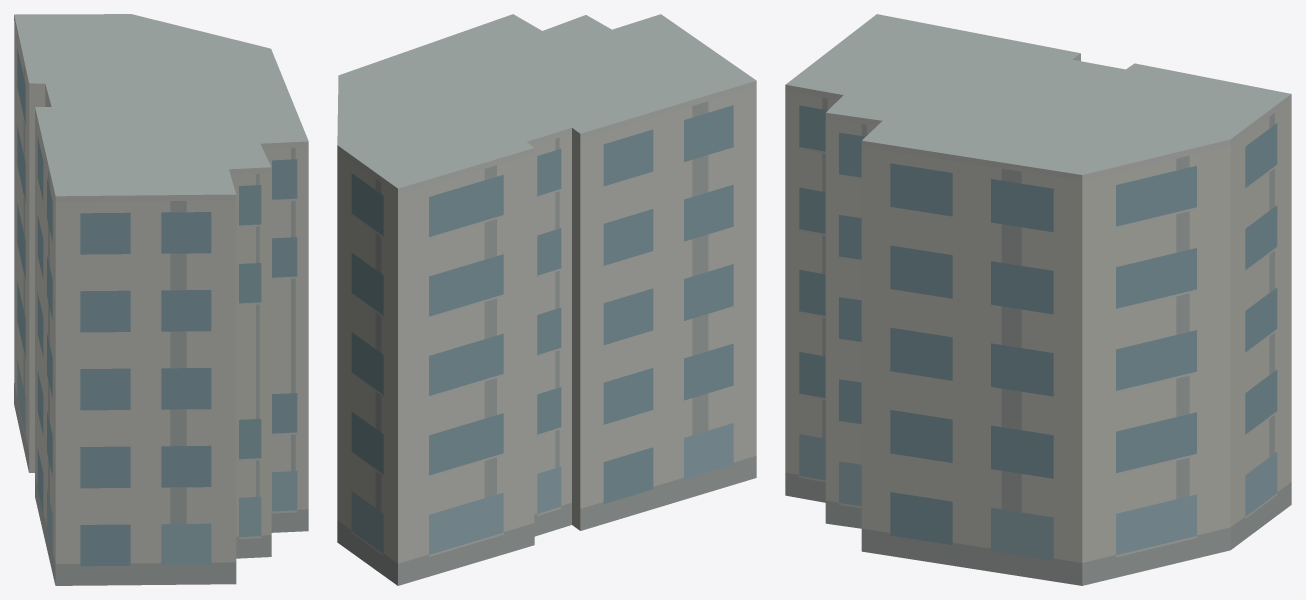
File: survey-upis-32907730.glb
3 views of the same model, side by side, from view 1: azimuth 30°, elevation 25°; view 2: azimuth 150°, elevation 25°; view 3: azimuth 270°, elevation 25° (orthographic). The views are drawn at different scales.
Visible parts, largest first — view 1: survey-upis-32907730.tmp; view 2: survey-upis-32907730.tmp; view 3: survey-upis-32907730.tmp.
Boxes of the visible parts, box(x1,y1,x2,y2) form: survey-upis-32907730.tmp: box(14, 14, 308, 585); survey-upis-32907730.tmp: box(337, 14, 756, 585); survey-upis-32907730.tmp: box(785, 14, 1291, 585).
Bounding box in the file's own units: 13.46 × 16 × 17.87.
